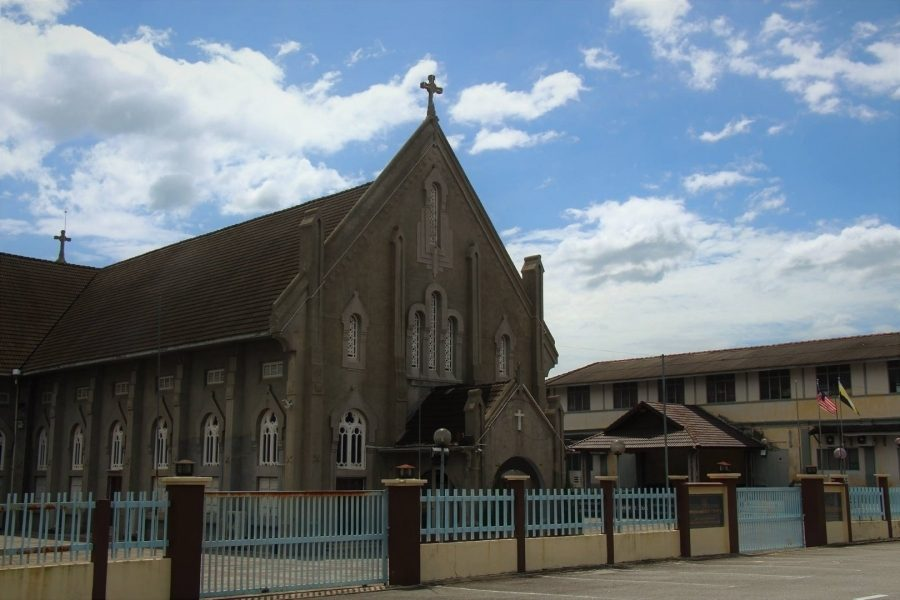Church: (5, 79, 554, 506)
